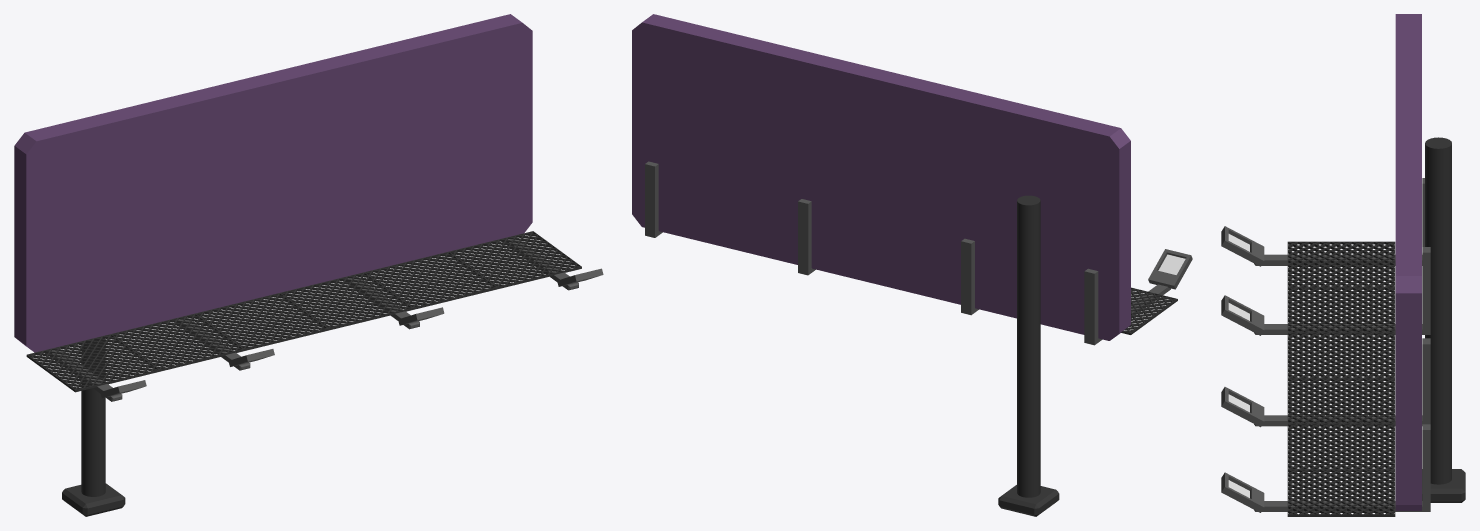
Rendered from Billboard.fbx.
3 renders of one model, left to right at view 1: azimuth 30°, elevation 25°; view 2: azimuth 150°, elevation 25°; view 3: azimuth 270°, elevation 25°, orthographic. The views are drawn at different scales.
Visible parts, largest first — view 1: Sign, Wireframe, Pole, Base_of_Pole; view 2: Sign, Pole, LightHolder, Wireframe, Base_of_Pole, Light, LightHolder1, LightHolder3, LightHolder2; view 3: Wireframe, Sign, Pole, Light (×4), LightHolder3, LightHolder2, LightHolder1, Base_of_Pole, LightHolder.
Part boxes in pixels (box(x1,y1,x2,y2)): Sign: box(14, 14, 532, 352); Wireframe: box(26, 231, 581, 392); Pole: box(81, 338, 105, 496); Base_of_Pole: box(62, 483, 125, 516); Sign: box(632, 14, 1130, 340); Pole: box(1017, 195, 1040, 497); LightHolder: box(1084, 268, 1170, 345); Wireframe: box(1121, 287, 1177, 334); Base_of_Pole: box(998, 485, 1059, 516); Light: box(1148, 249, 1192, 289); LightHolder1: box(961, 238, 978, 315); LightHolder3: box(645, 161, 662, 237); LightHolder2: box(798, 199, 815, 275); Wireframe: box(1287, 241, 1395, 516); Sign: box(1395, 14, 1421, 510); Pole: box(1425, 137, 1451, 484); Light (×4): box(1221, 226, 1264, 512); LightHolder3: box(1254, 424, 1430, 511); LightHolder2: box(1254, 338, 1430, 426); LightHolder1: box(1254, 247, 1430, 334); Base_of_Pole: box(1422, 469, 1465, 502); LightHolder: box(1254, 178, 1424, 265).
Size of the model in its own units: 47.79 by 35.72 by 18.06.
